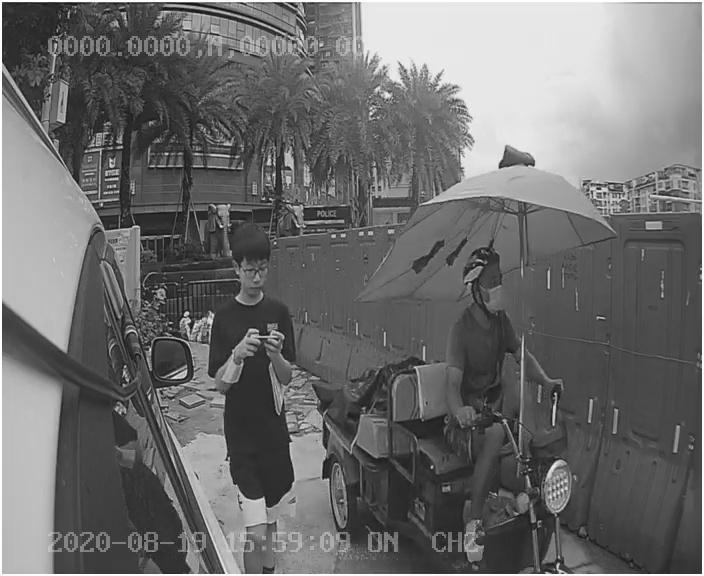person: (197, 219, 311, 527)
